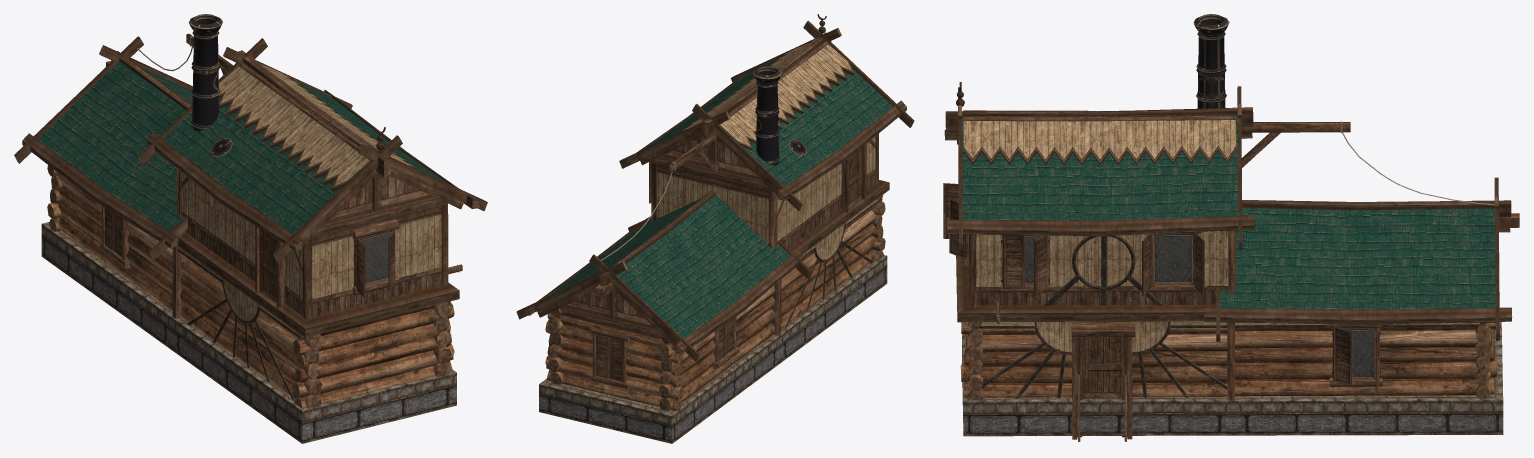
The model's file is o_mdl_env_buildingWoodHouseMediumA-transformed.glb.
3 views of the same model, side by side, from view 1: azimuth 30°, elevation 25°; view 2: azimuth 150°, elevation 25°; view 3: azimuth 270°, elevation 25° (orthographic). The views are drawn at different scales.
Parts seen in each view (by area): view 1: default; view 2: default; view 3: default.
Boxes of the visible parts, x1=… form: default: x1=14, y1=14, x2=487, y2=443; default: x1=516, y1=14, x2=914, y2=443; default: x1=943, y1=14, x2=1519, y2=441.
Bounding box in the file's own units: 8.69 × 12.1 × 18.01.
7 materials, 7 textured.
